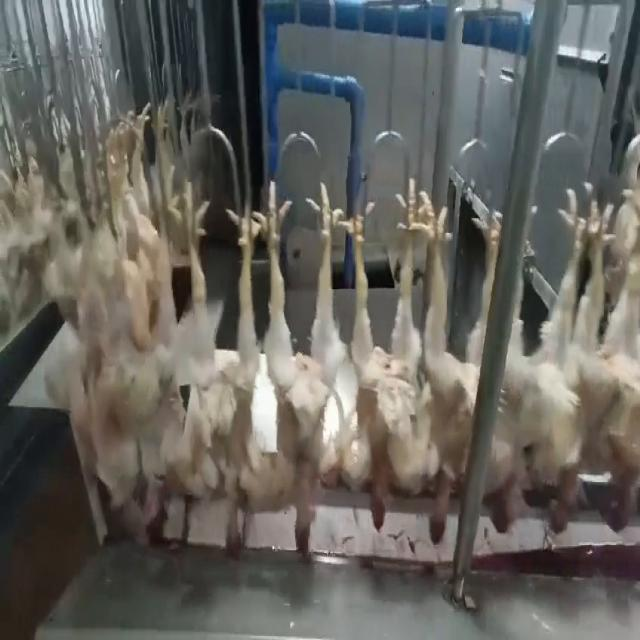chicken: (485, 173, 601, 544), (253, 180, 351, 560), (79, 191, 180, 540), (389, 182, 480, 543), (175, 178, 257, 549), (343, 176, 413, 532), (584, 170, 639, 542)
